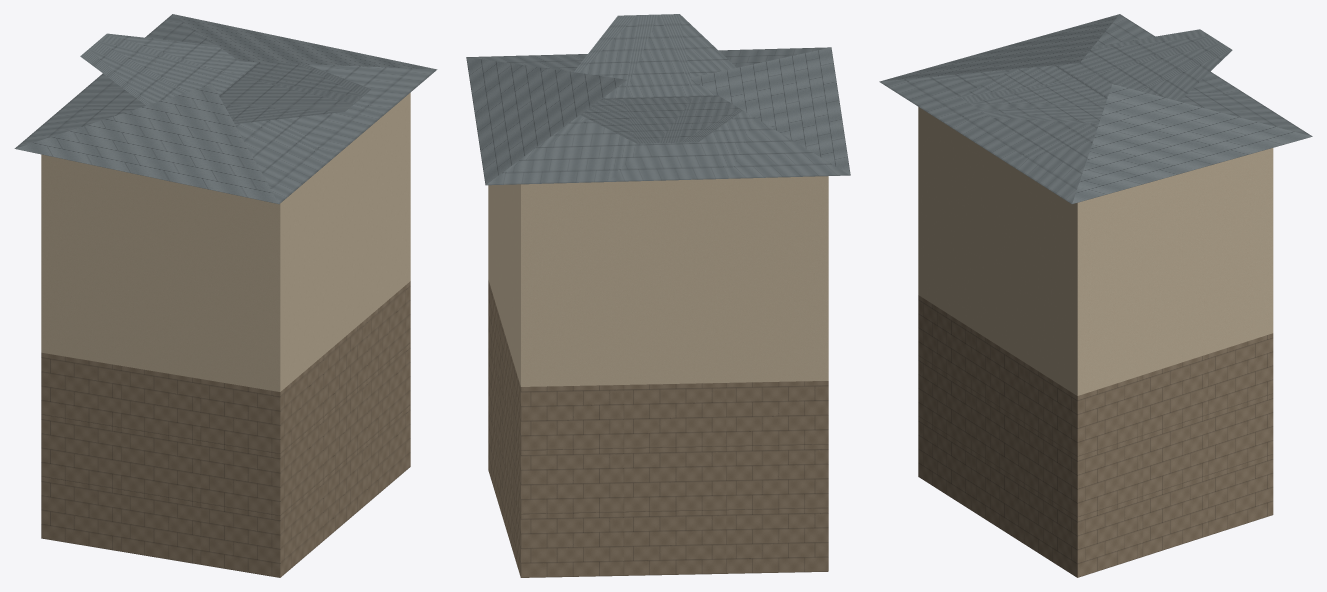
Rendered from bld_c-3_18_533.gltf.
3 views of the same model, side by side, from view 1: azimuth 30°, elevation 25°; view 2: azimuth 150°, elevation 25°; view 3: azimuth 270°, elevation 25° (orthographic). The views are drawn at different scales.
Visible parts, largest first — view 1: bld_c-3_18_533; view 2: bld_c-3_18_533; view 3: bld_c-3_18_533.
Part boxes in pixels (left/top/right/bottom): bld_c-3_18_533: left=14, top=14, right=437, bottom=577; bld_c-3_18_533: left=466, top=14, right=850, bottom=577; bld_c-3_18_533: left=879, top=14, right=1312, bottom=577.
Size of the model in its own units: 11.45 by 11.8 by 11.03.
Materials: 3 (3 with a texture image).
